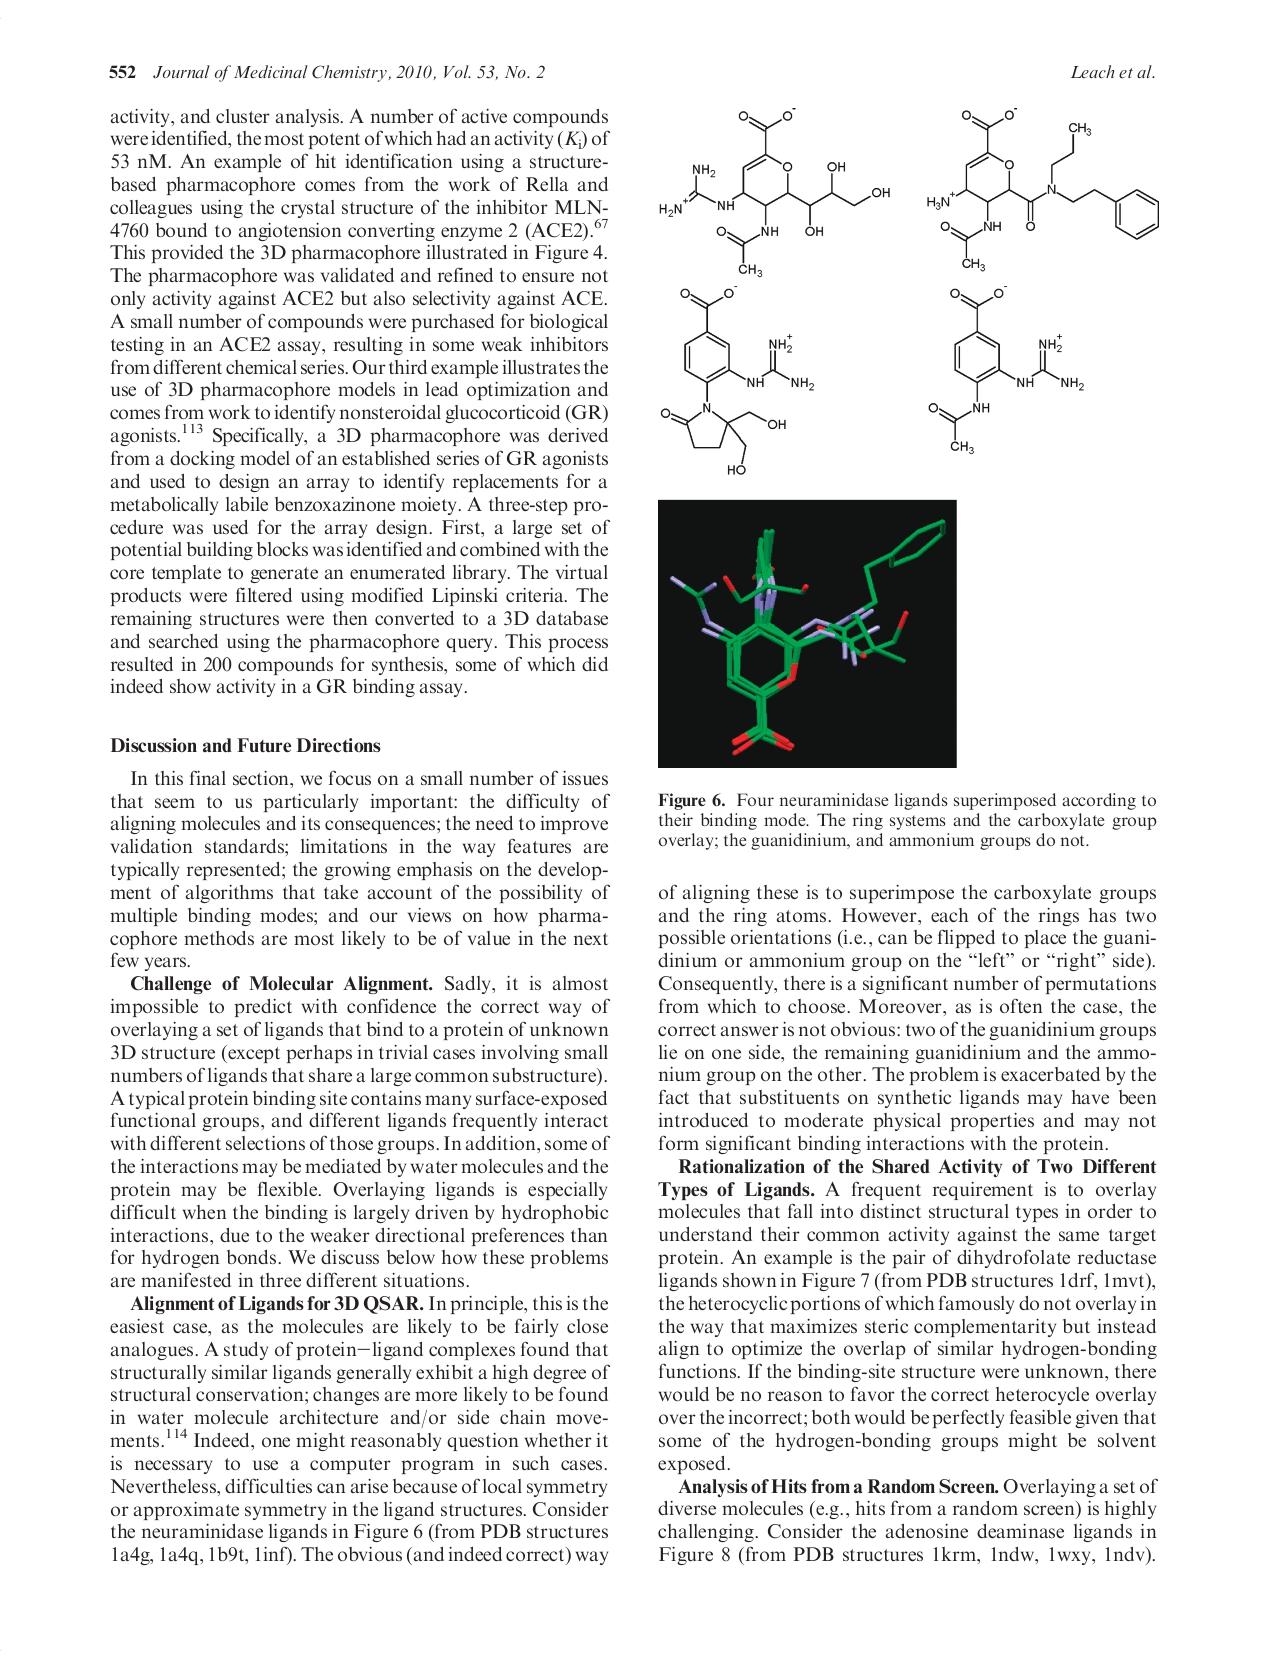exist_molecular: (656, 104, 892, 277), (924, 102, 1164, 273), (660, 285, 817, 477), (926, 282, 1086, 455)
